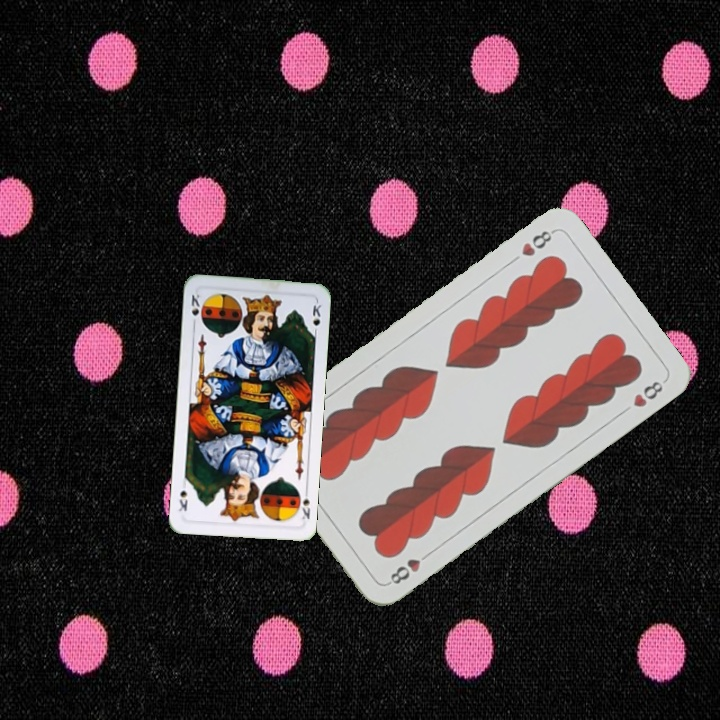H8: (383, 547, 434, 588), (517, 225, 557, 259)
SK: (187, 290, 202, 329), (298, 485, 313, 522)
